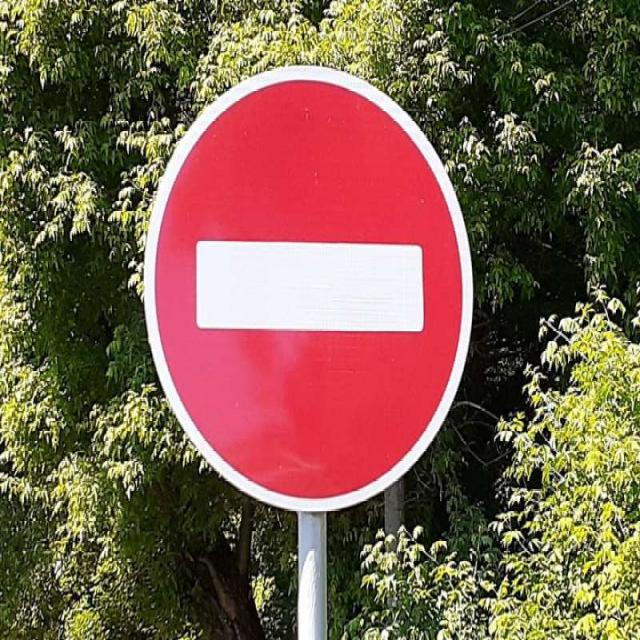no entry: (141, 62, 478, 519)
